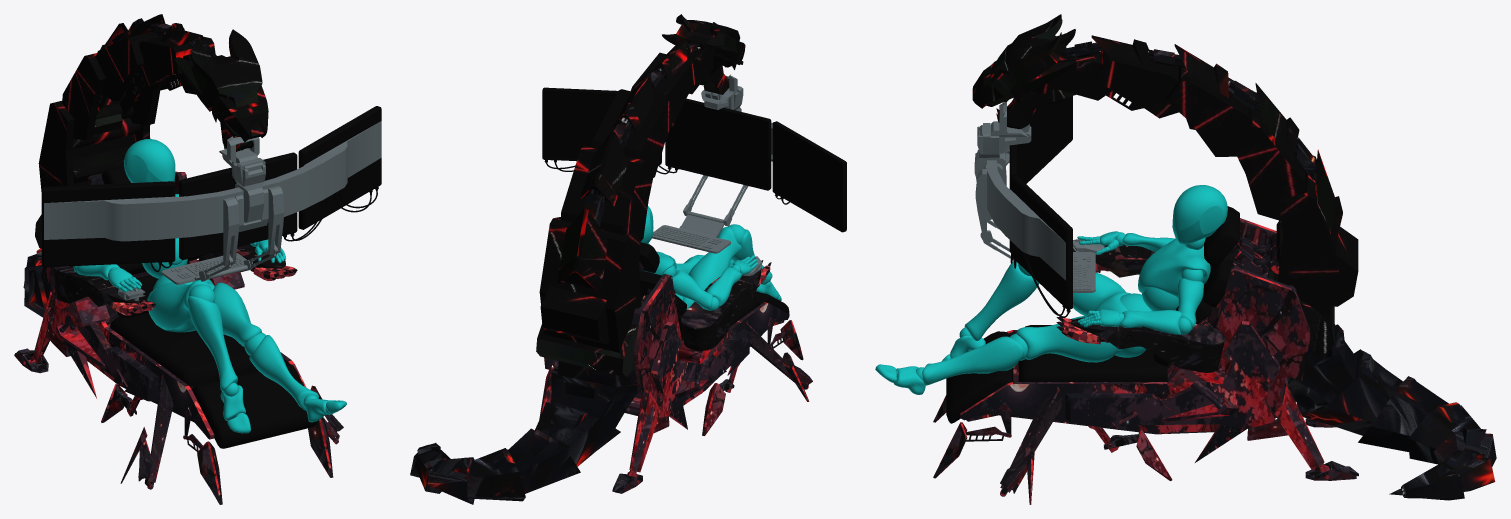
File: dragon8.glb
3 views of the same model, side by side, from view 1: azimuth 30°, elevation 25°; view 2: azimuth 150°, elevation 25°; view 3: azimuth 270°, elevation 25° (orthographic). The views are drawn at different scales.
Parts seen in each view (by area): view 1: a1UVs3, a2UVs1, JUST_MAT_xBot_, a1UVs1, a1UVs4, mainHead, monitor_right, monitorMid, monitor_left, mech, tail_2_1, a2UVs1_3 (+1 smaller); view 2: a1UVs1, a1UVs3, tail_2_1, monitorMid, monitor_right, JUST_MAT_xBot_, monitor_left, mainHead, a2UVs1, a1UVs4; view 3: a1UVs3, a1UVs1, JUST_MAT_xBot_, tail_2_1, a1UVs4, mainHead, a2UVs1, monitor_right, monitor_left, a2UVs1_3.
Part boxes in pixels (x1=…): a1UVs3: x1=14, y1=171, x2=343, y2=504; a2UVs1: x1=44, y1=121, x2=381, y2=300; JUST_MAT_xBot_: x1=73, y1=139, x2=346, y2=433; a1UVs1: x1=35, y1=14, x2=216, y2=248; a1UVs4: x1=102, y1=165, x2=378, y2=448; mainHead: x1=175, y1=29, x2=268, y2=151; monitor_right: x1=41, y1=181, x2=175, y2=267; monitorMid: x1=179, y1=152, x2=297, y2=259; monitor_left: x1=298, y1=106, x2=381, y2=229; mech: x1=72, y1=71, x2=181, y2=148; tail_2_1: x1=23, y1=22, x2=243, y2=317; a2UVs1_3: x1=232, y1=162, x2=265, y2=222; a1UVs1: x1=536, y1=38, x2=713, y2=377; a1UVs3: x1=539, y1=260, x2=812, y2=493; tail_2_1: x1=410, y1=42, x2=700, y2=504; monitorMid: x1=665, y1=98, x2=771, y2=190; monitor_right: x1=772, y1=121, x2=846, y2=232; JUST_MAT_xBot_: x1=641, y1=206, x2=781, y2=310; monitor_left: x1=542, y1=87, x2=661, y2=164; mainHead: x1=662, y1=14, x2=745, y2=94; a2UVs1: x1=652, y1=123, x2=772, y2=275; a1UVs4: x1=544, y1=160, x2=789, y2=340; a1UVs3: x1=933, y1=218, x2=1358, y2=504; a1UVs1: x1=1031, y1=35, x2=1358, y2=353; JUST_MAT_xBot_: x1=875, y1=185, x2=1227, y2=394; tail_2_1: x1=1011, y1=41, x2=1496, y2=500; a1UVs4: x1=946, y1=206, x2=1239, y2=423; mainHead: x1=972, y1=14, x2=1075, y2=129; a2UVs1: x1=975, y1=145, x2=1104, y2=292; monitor_right: x1=1016, y1=96, x2=1072, y2=183; monitor_left: x1=1011, y1=175, x2=1072, y2=309; a2UVs1_3: x1=974, y1=126, x2=1006, y2=185.
Bounding box in the file's own units: 17.77 × 20.7 × 27.25.
Materials: 6 (3 with a texture image).
